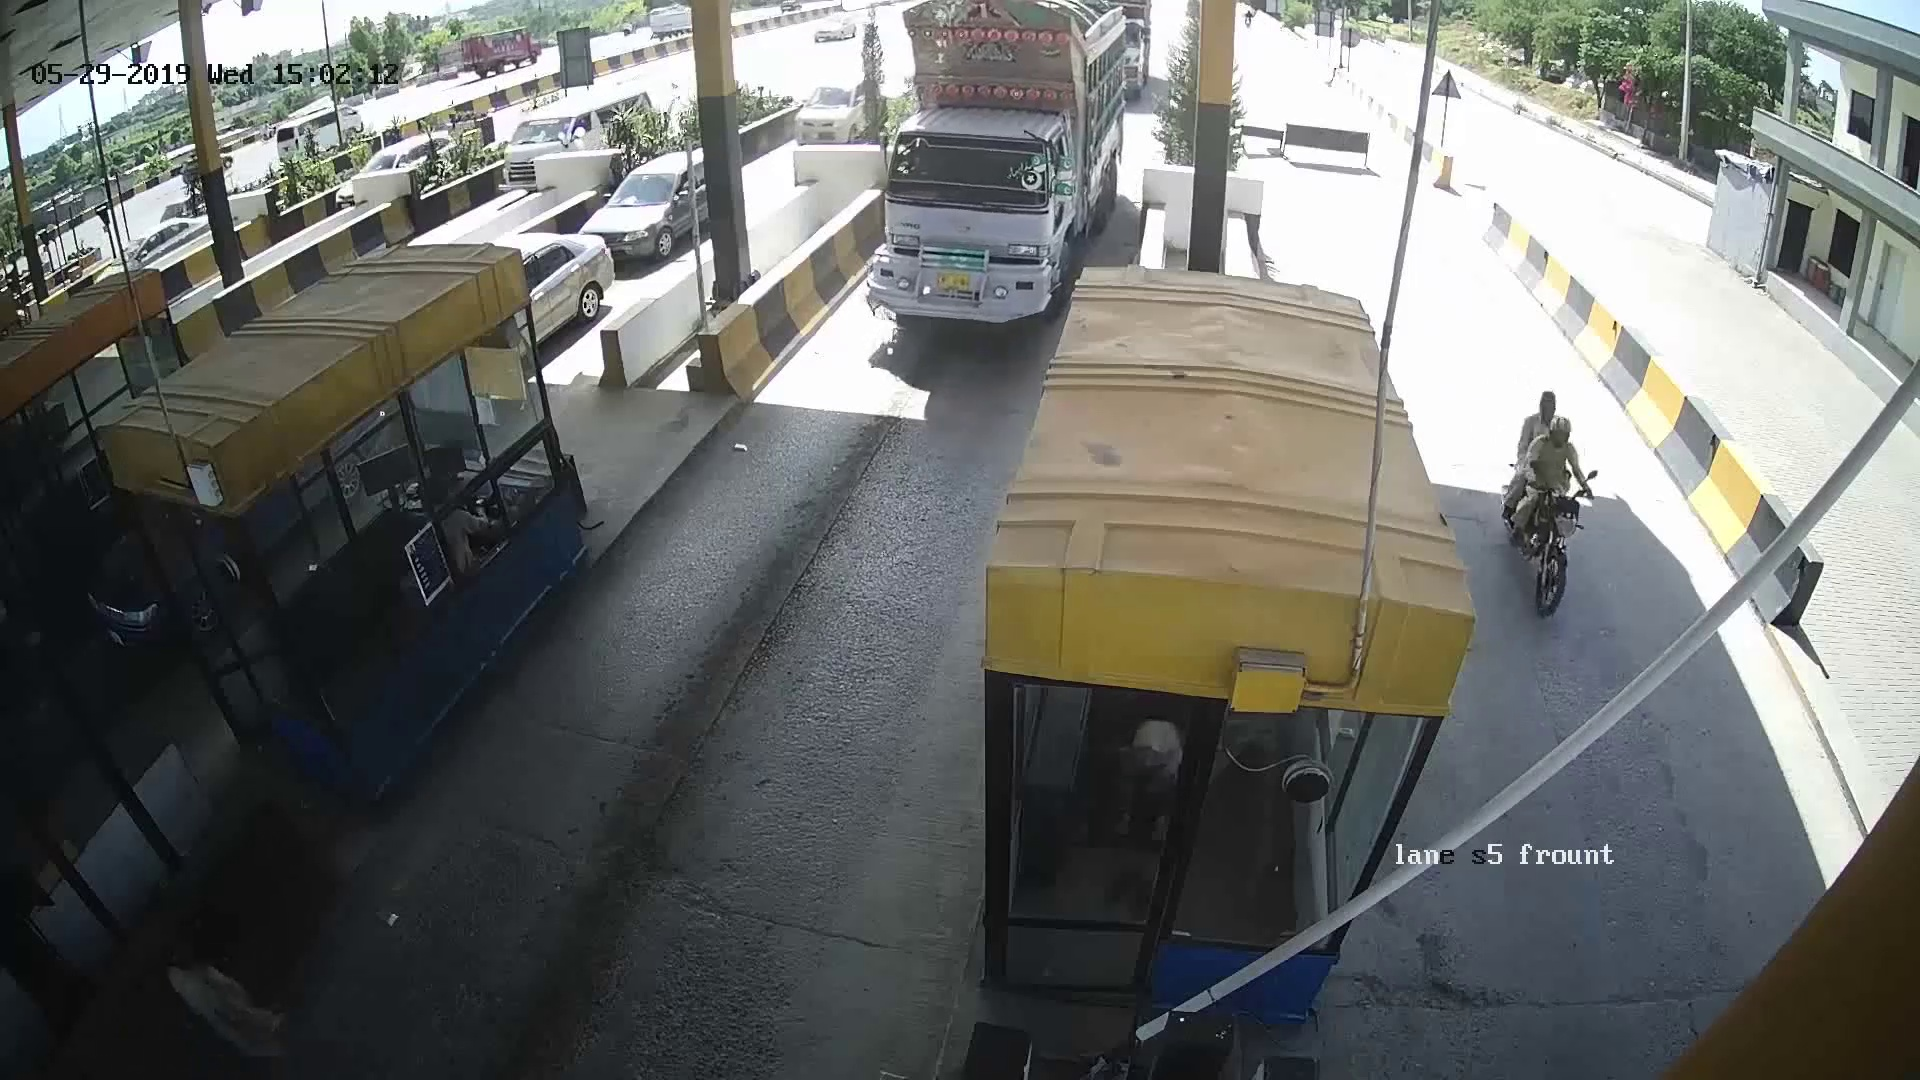truck: (864, 38, 1149, 301)
